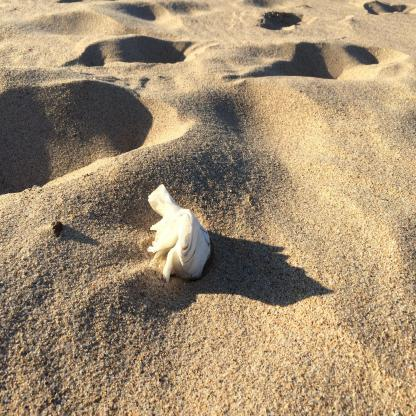Tissues: (147, 184, 210, 284)
